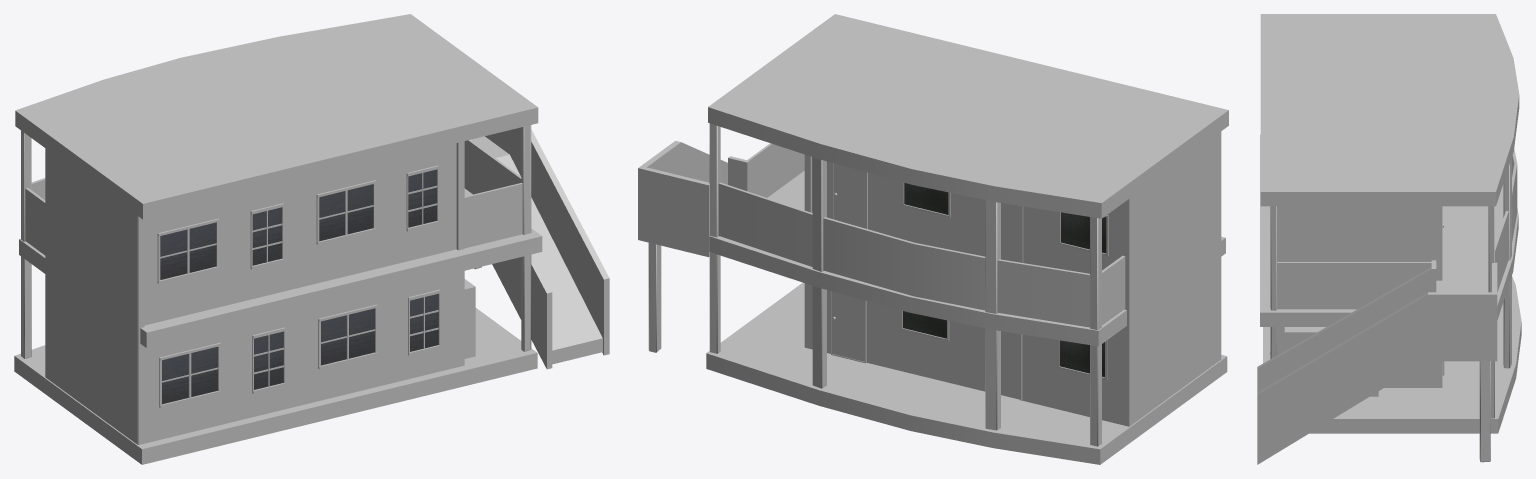
The model's file is apart_high_4a.fbx.
3 renders of one model, left to right at view 1: azimuth 30°, elevation 25°; view 2: azimuth 150°, elevation 25°; view 3: azimuth 270°, elevation 25°, orthographic. The views are drawn at different scales.
Parts seen in each view (by area): view 1: apart_high_4a; view 2: apart_high_4a; view 3: apart_high_4a.
Boxes of the visible parts, x1=… form: apart_high_4a: x1=14, y1=14, x2=609, y2=464; apart_high_4a: x1=638, y1=14, x2=1228, y2=464; apart_high_4a: x1=1257, y1=14, x2=1521, y2=464.
Bounding box in the file's own units: 11.64 × 6.29 × 6.21.
